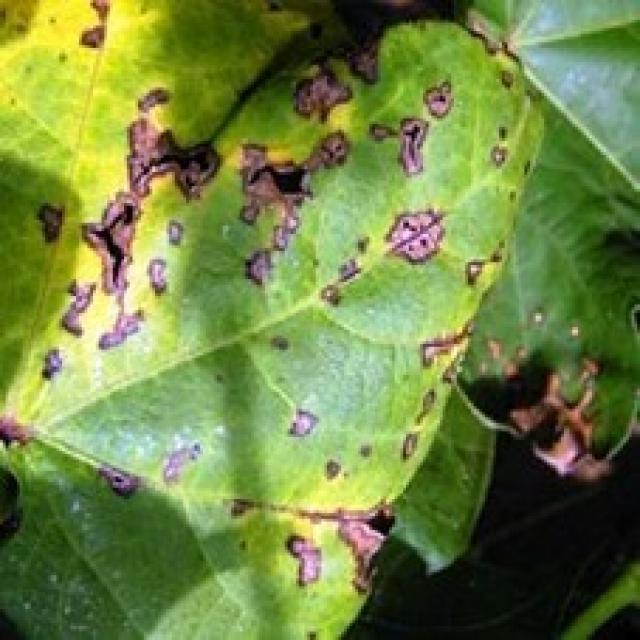Downy_Mildew: (34, 35, 494, 351)
